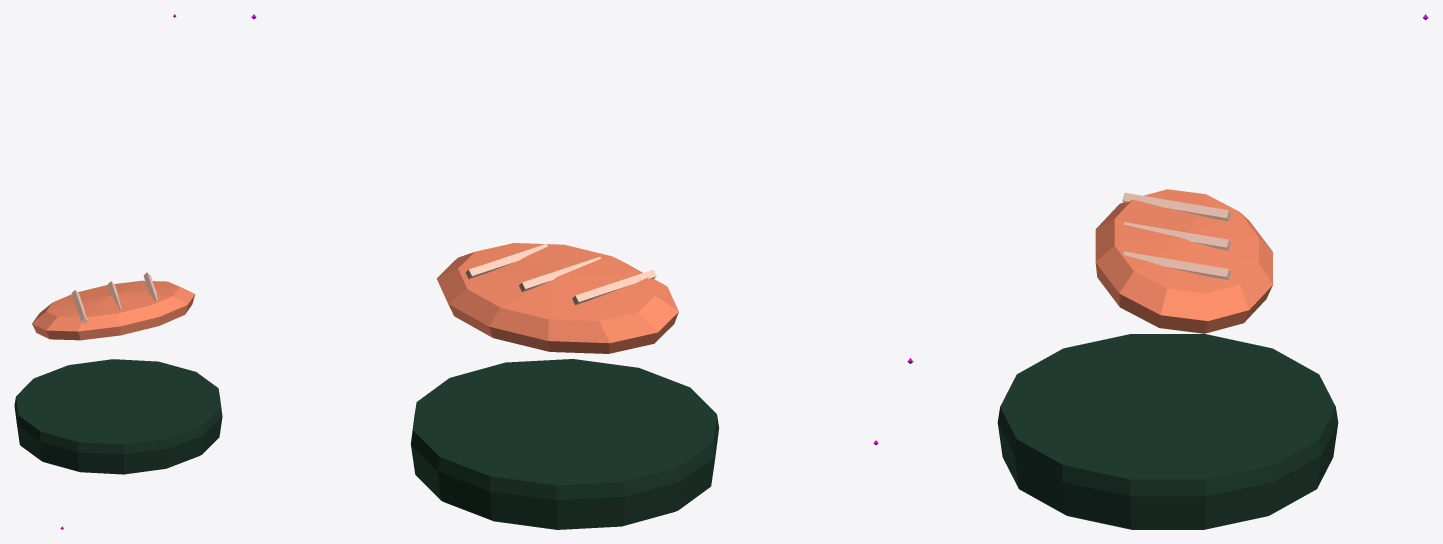
The model's file is acc_sushi.fbx.
3 views of the same model, side by side, from view 1: azimuth 30°, elevation 25°; view 2: azimuth 150°, elevation 25°; view 3: azimuth 270°, elevation 25° (orthographic). The views are drawn at different scales.
Visible parts, largest first — view 1: Nori, Salmon, Stripes; view 2: Nori, Salmon, Stripes; view 3: Nori, Salmon, Stripes.
Boxes of the visible parts, x1,y1,x2,y2 form: Nori: (14, 359, 222, 474); Salmon: (32, 280, 195, 340); Stripes: (71, 272, 157, 324); Nori: (410, 359, 718, 529); Salmon: (436, 243, 678, 353); Stripes: (465, 243, 656, 304); Nori: (997, 334, 1338, 529); Salmon: (1095, 189, 1272, 333); Stripes: (1122, 192, 1230, 279).
Size of the model in its own units: 2.99 by 3.6 by 2.99.
